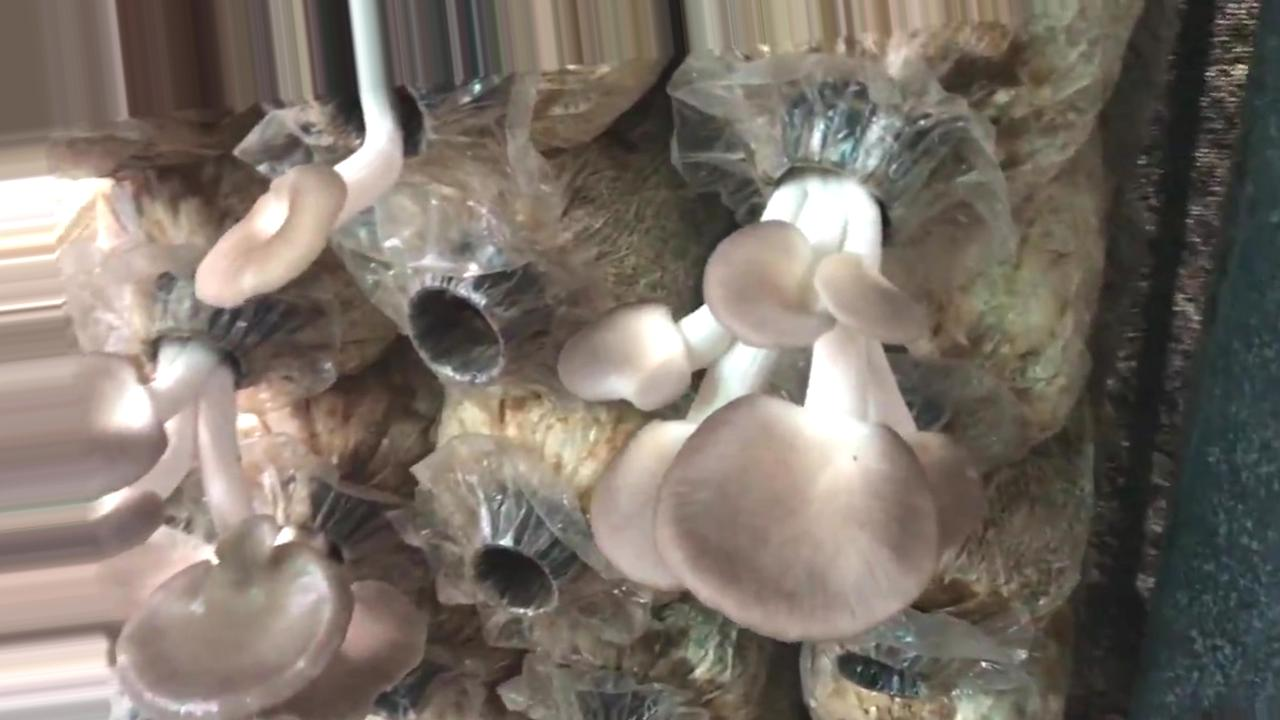nam: (557, 121, 982, 641), (1, 278, 430, 718), (193, 1, 453, 314)
